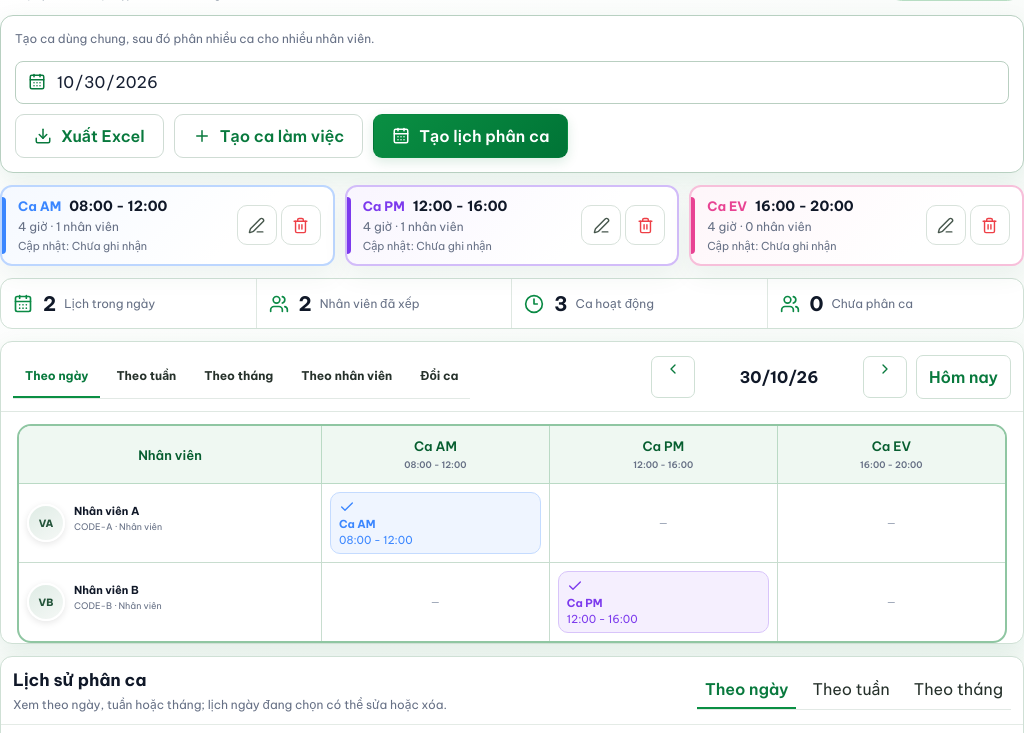
Test: shows swap tab for admin
This screenshot has width=1024, height=733.
Click the tab "Đổi ca" at (439, 376), box [408,354,470,398]
(page scrolled)
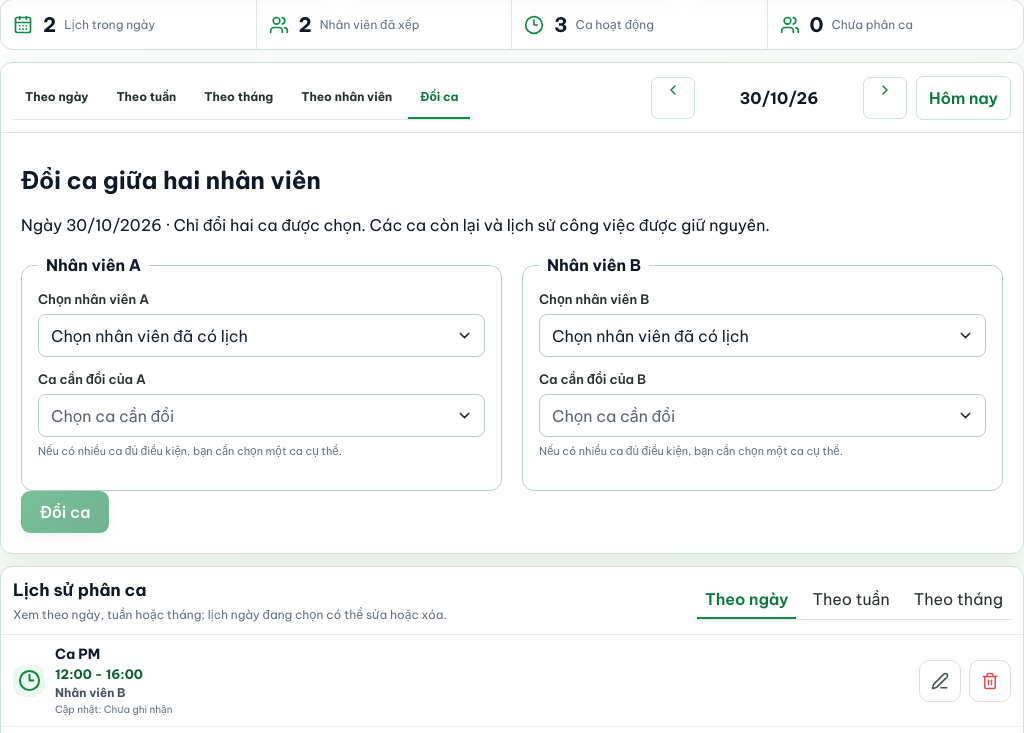
expect the panel is shown: met, box [1,145,1023,553]
